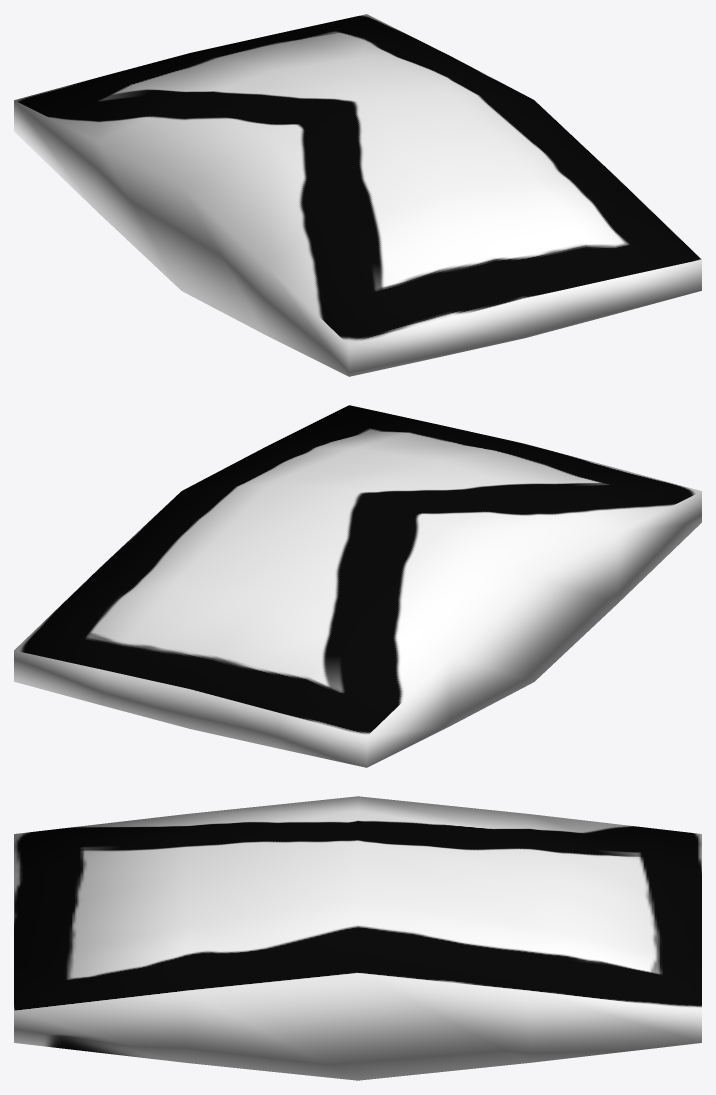
The model's file is mail.glb.
The picture shows the model from 3 angles, top to bottom: view 1: azimuth 30°, elevation 25°; view 2: azimuth 150°, elevation 25°; view 3: azimuth 270°, elevation 25°; orthographic projection. The views are drawn at different scales.
Visible parts, largest first — view 1: Cube; view 2: Cube; view 3: Cube.
Part boxes in pixels (<box>): Cube: <box>14,14,701,376</box>; Cube: <box>14,405,701,767</box>; Cube: <box>14,796,701,1080</box>.
Bounding box in the file's own units: 0.6159 × 0.315 × 1.01.
1 material, 1 textured.
